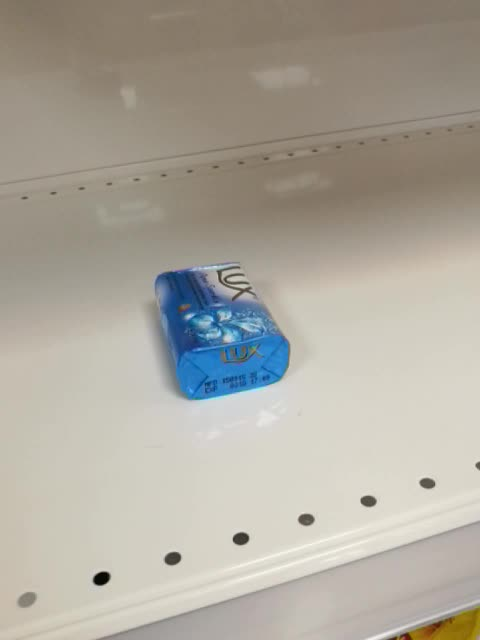soap: (151, 259, 294, 401)
